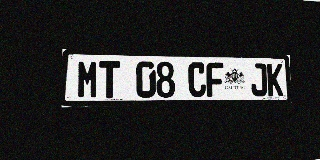0: (136, 61, 155, 98)
8: (156, 61, 175, 98)
C: (188, 62, 206, 97)
F: (206, 62, 224, 97)
J: (250, 63, 267, 96)
K: (267, 63, 283, 96)
M: (77, 60, 99, 99)
T: (99, 60, 120, 98)
